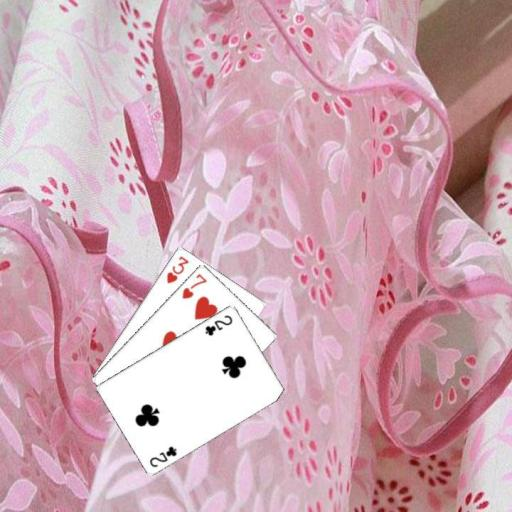2C: (147, 442, 179, 469), (202, 312, 234, 337)
3H: (164, 253, 191, 285)
7H: (180, 270, 209, 300)
